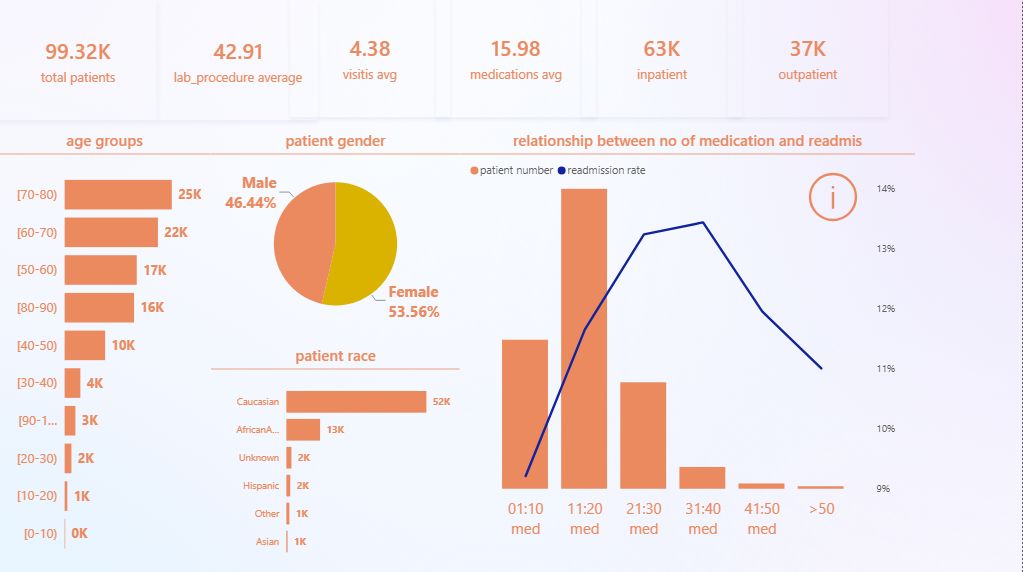

Layout of this report page (visuals, bound fields, positions):
{"tool":"powerbi","page":{"name":"overbiew","canvas":[1280,720],"ordinal":0},"visuals":[{"type":"pieChart","title":"patient gender","fields":{"Category":["public diabetic_data.gender"],"Y":["Sum(public diabetic_data.patient_nbr)"]},"box":[266.2,153.8,311.2,272.5],"z":0},{"type":"barChart","title":"age groups","fields":{"Category":["public diabetic_data.age"],"Y":["CountNonNull(public diabetic_data.patient_nbr)"]},"box":[0,153.8,266.2,566.2],"z":1000},{"type":"card","fields":{"Values":["Avg(public diabetic_data.num_lab_procedures)"]},"box":[200,3.8,200,150],"z":2000},{"type":"card","fields":{"Values":["Avg(public diabetic_data.num_medications)"]},"box":[547.5,0,200,150],"z":3000},{"type":"card","fields":{"Values":["Sum(public diabetic_data.number_inpatient)"]},"box":[730,0,200,150],"z":4000},{"type":"card","fields":{"Values":["Sum(public diabetic_data.number_outpatient)"]},"box":[912.5,0,200,150],"z":5000},{"type":"barChart","title":"patient race","fields":{"Category":["public diabetic_data.race"],"Y":["Count(public diabetic_data.patient_nbr)"]},"box":[266.2,422.5,311.2,297.5],"z":6000},{"type":"card","fields":{"Values":["Avg(public diabetic_data.time_in_hospital)"]},"box":[365,0,200,150],"z":7000},{"type":"card","fields":{"Values":["Count(public diabetic_data.encounter_id)"]},"box":[0,3.8,200,150],"z":8000},{"type":"lineClusteredColumnComboChart","title":"relationship between no of medication and readmis","fields":{"Y":["public diabetic_data.patient number"],"Y2":["public diabetic_data.readmission rate"],"Category":["public diabetic_data.medicines group"]},"box":[577.5,153.8,568.8,536.2],"z":9000},{"type":"actionButton","box":[993.8,200,100,100],"z":10000}]}

Visuals, with their boxes in screenshot pixels (x1, y1, x2, y2), scaled from the page's 1280x720 canvas onto the 1023x572 screenshot:
"patient gender" pieChart: x1=213, y1=122, x2=461, y2=339
"age groups" barChart: x1=0, y1=122, x2=213, y2=571
card - Avg(public diabetic_data.num_lab_procedures): x1=160, y1=3, x2=320, y2=122
card - Avg(public diabetic_data.num_medications): x1=438, y1=0, x2=597, y2=119
card - Sum(public diabetic_data.number_inpatient): x1=583, y1=0, x2=743, y2=119
card - Sum(public diabetic_data.number_outpatient): x1=729, y1=0, x2=889, y2=119
"patient race" barChart: x1=213, y1=336, x2=461, y2=571
card - Avg(public diabetic_data.time_in_hospital): x1=292, y1=0, x2=452, y2=119
card - Count(public diabetic_data.encounter_id): x1=0, y1=3, x2=160, y2=122
"relationship between no of medication and readmis" lineClusteredColumnComboChart: x1=462, y1=122, x2=916, y2=548
actionButton: x1=794, y1=159, x2=874, y2=238
